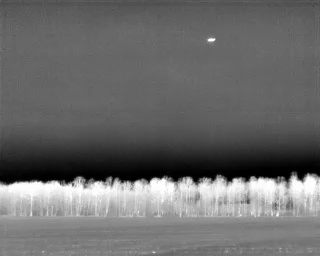DRONE: (204, 34, 218, 46)
